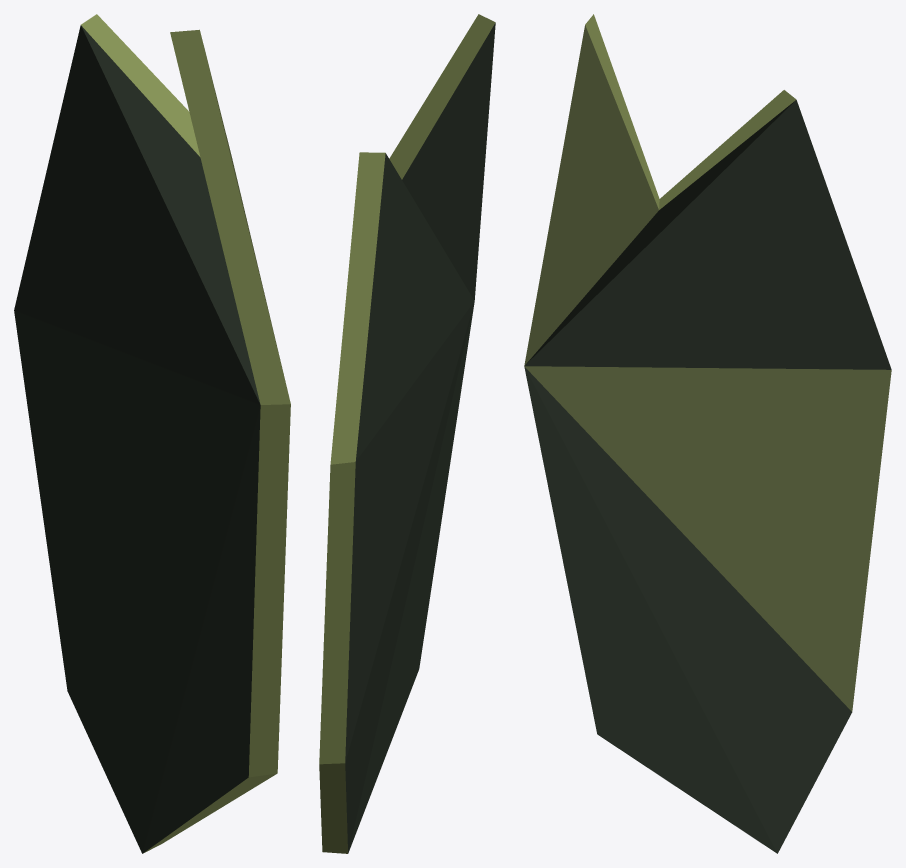
Rendered from wine_bottle_piece_side.glb.
The picture shows the model from 3 angles, left to right: view 1: azimuth 30°, elevation 25°; view 2: azimuth 150°, elevation 25°; view 3: azimuth 270°, elevation 25°; orthographic projection. The views are drawn at different scales.
Visible parts, largest first — view 1: Curved solid jagged glass.008; view 2: Curved solid jagged glass.008; view 3: Curved solid jagged glass.008.
Part boxes in pixels (x1=…): Curved solid jagged glass.008: x1=14, y1=14, x2=290, y2=853; Curved solid jagged glass.008: x1=319, y1=14, x2=495, y2=853; Curved solid jagged glass.008: x1=524, y1=14, x2=891, y2=853.
Size of the model in its own units: 0.0133 by 0.106 by 0.0442.
